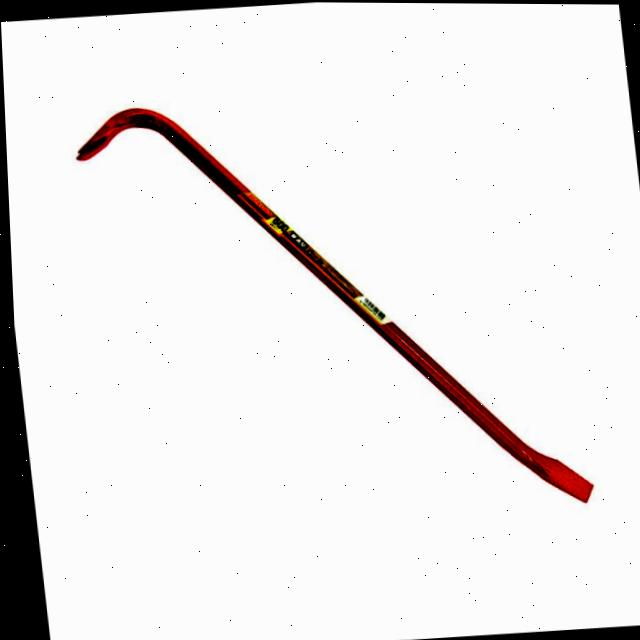crow bar: (68, 87, 593, 512)
